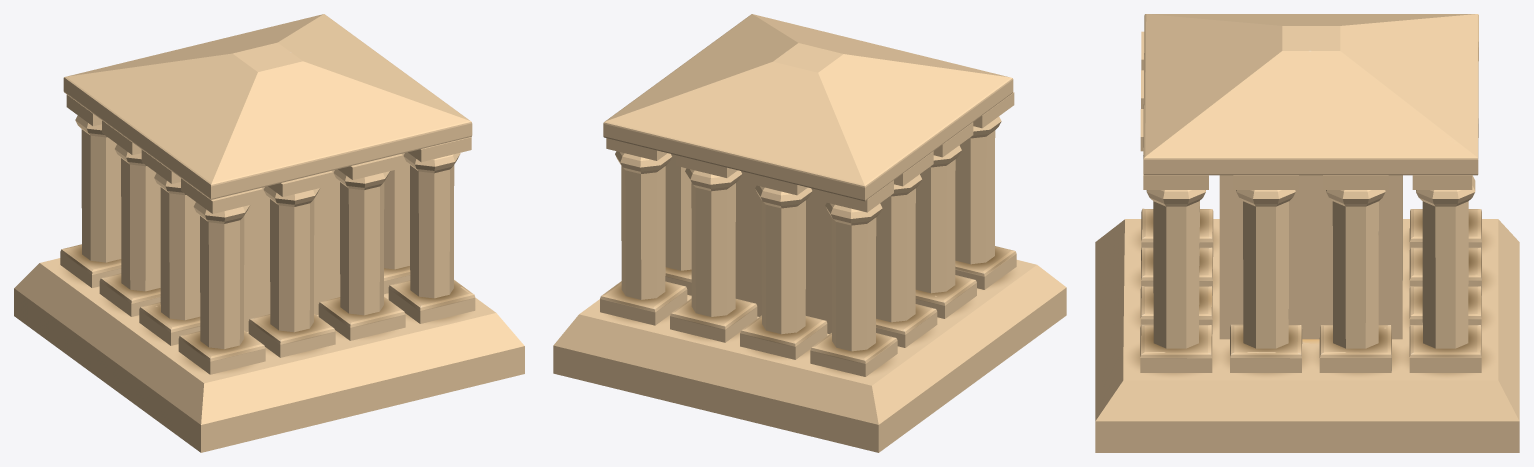
The model's file is wall_sqr.glb.
The picture shows the model from 3 angles, left to right: view 1: azimuth 30°, elevation 25°; view 2: azimuth 150°, elevation 25°; view 3: azimuth 270°, elevation 25°; orthographic projection. The views are drawn at different scales.
Visible parts, largest first — view 1: Cylinder; view 2: Cylinder; view 3: Cylinder.
Part boxes in pixels (x1,y1,x2,y2): Cylinder: (14, 14, 524, 452); Cylinder: (553, 14, 1066, 452); Cylinder: (1095, 14, 1519, 452).
Bounding box in the file's own units: 1 × 0.8454 × 1.
Materials: 1 (1 with a texture image).
